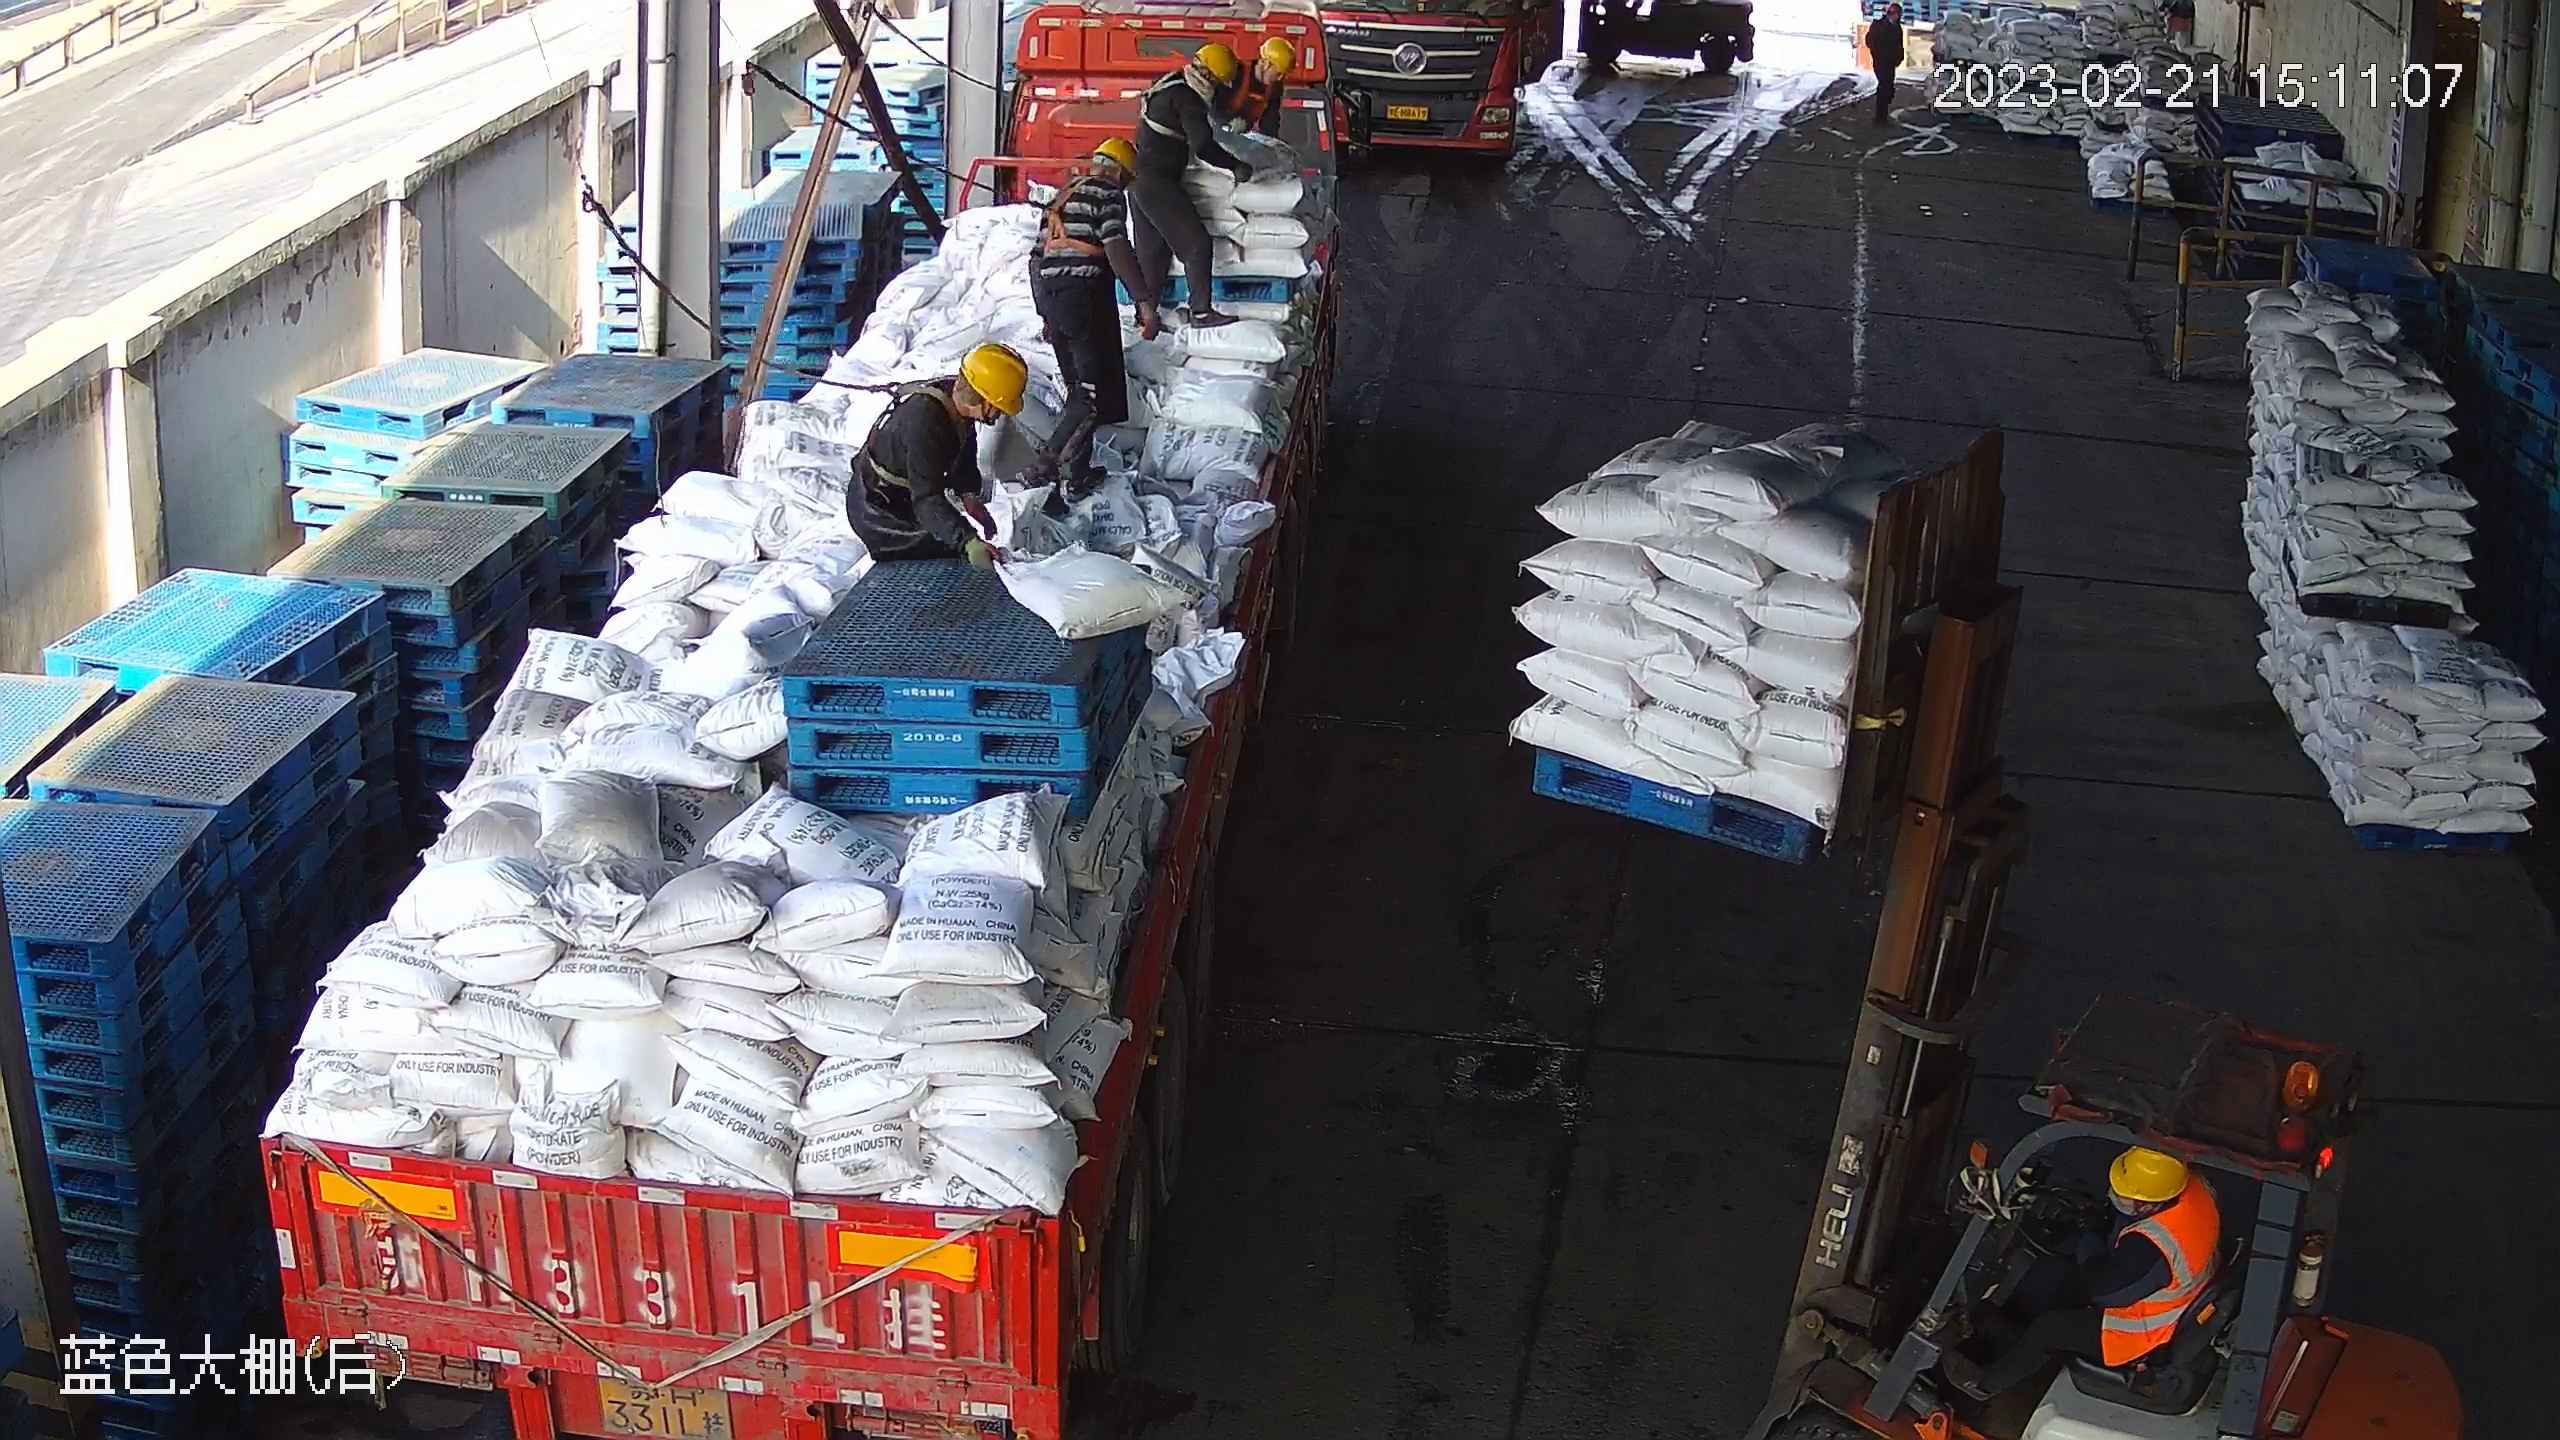belt: (853, 375, 969, 489), (1010, 175, 1114, 258), (1130, 68, 1190, 141), (1231, 61, 1273, 128)
head: (2105, 1145, 2222, 1284), (903, 342, 1029, 459), (1054, 137, 1139, 224), (1158, 44, 1241, 124)
helmet: (959, 342, 1029, 416), (2108, 1145, 2190, 1200), (1194, 43, 1240, 89), (1093, 136, 1139, 179), (1259, 36, 1296, 74)
people: (1938, 1144, 2222, 1404), (1021, 136, 1164, 504), (843, 342, 1028, 572), (1128, 43, 1254, 330)
truck: (256, 1, 1372, 1440), (1317, 1, 1564, 161)
